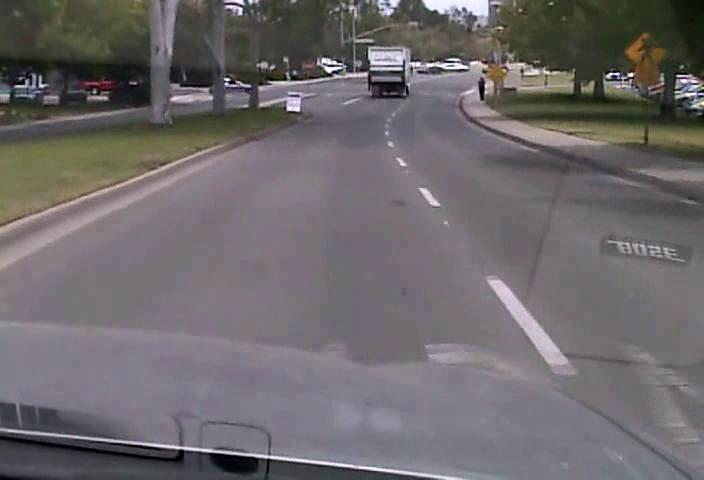pedestrianCrossing: (622, 31, 668, 69)
